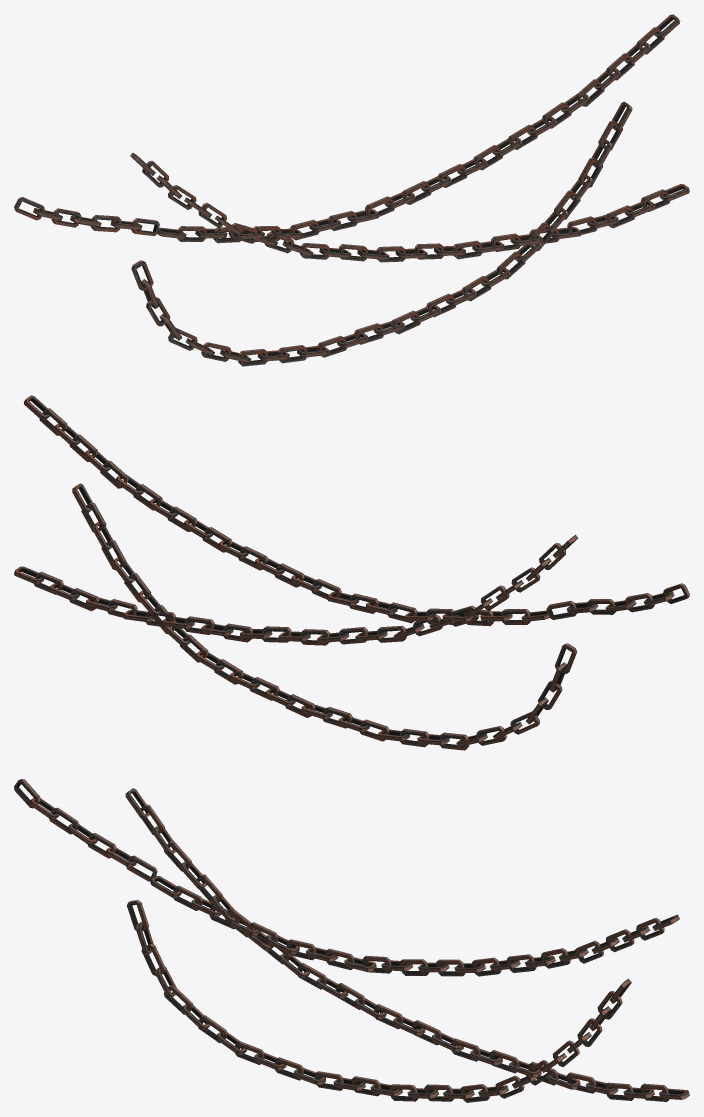
Rendered from dragon_chain.fbx.
3 views of the same model, one above another, from view 1: azimuth 30°, elevation 25°; view 2: azimuth 150°, elevation 25°; view 3: azimuth 330°, elevation 25° (orthographic).
Visible parts, largest first — view 1: dragon_chain; view 2: dragon_chain; view 3: dragon_chain.
Boxes of the visible parts, x1,y1,x2,y2 form: dragon_chain: (14, 14, 689, 366); dragon_chain: (14, 395, 689, 750); dragon_chain: (14, 779, 689, 1102).
Size of the model in its own units: 18.11 by 6.58 by 0.4423.
